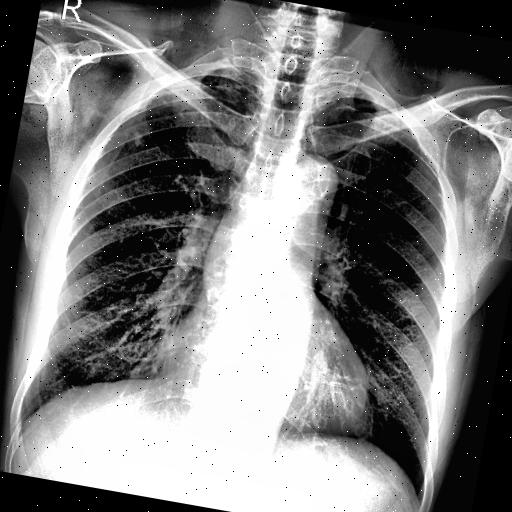0- Aortic enlargement: (281, 148, 345, 213)
13- Pulmonary fibrosis: (122, 58, 242, 162), (157, 67, 252, 134), (364, 100, 424, 142), (118, 108, 150, 148), (130, 128, 144, 148)
6- Infiltration: (135, 60, 240, 134)
7- Lung Opacity: (135, 60, 240, 134)
8- Nodule-Mass: (130, 128, 144, 148)
9- Other lesion: (364, 100, 424, 142)
